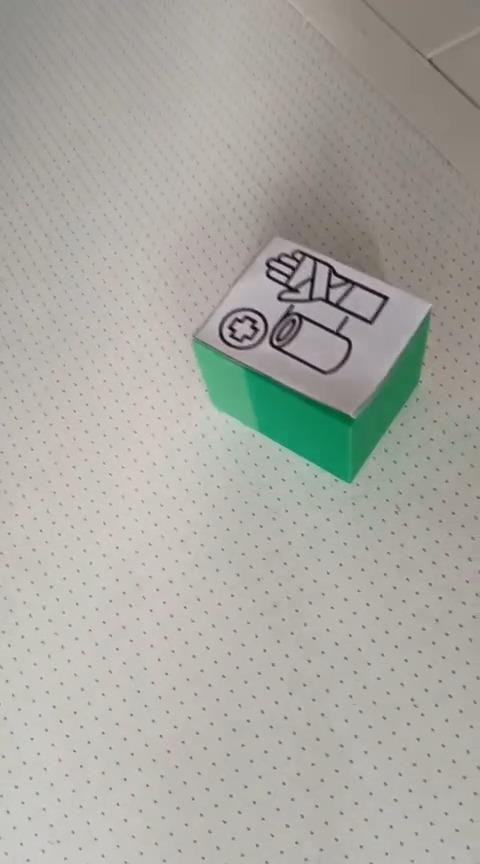Bandages: (190, 234, 432, 483)
